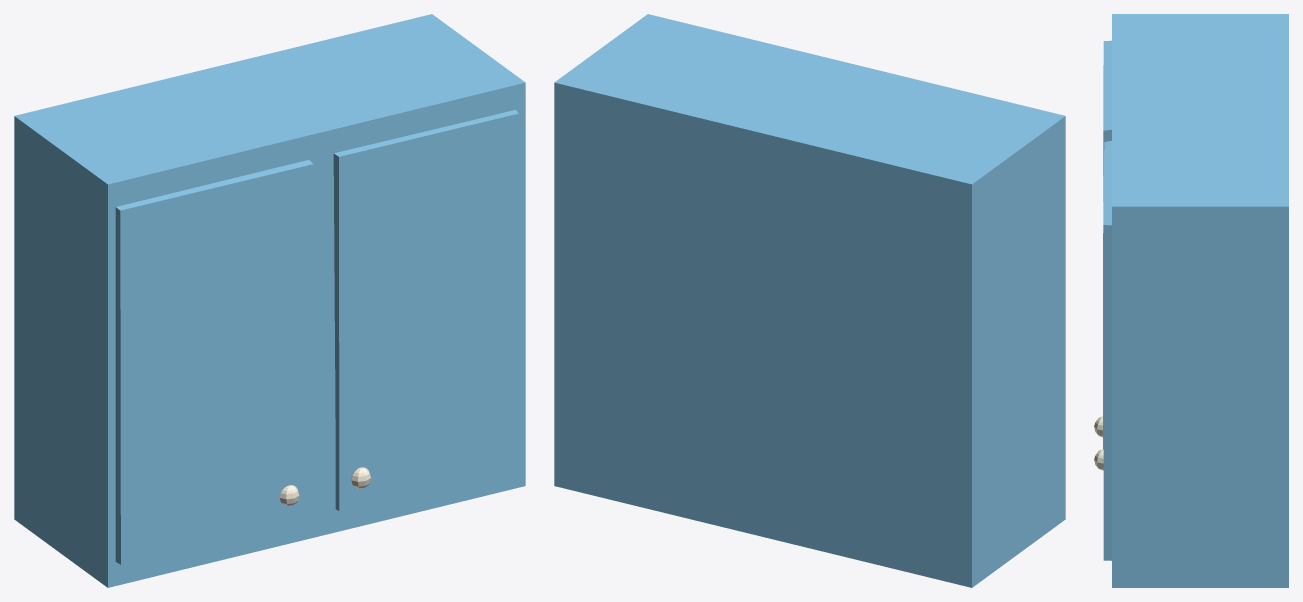
File: Kitchen_2_Cabinet_5.fbx
3 renders of one model, left to right at view 1: azimuth 30°, elevation 25°; view 2: azimuth 150°, elevation 25°; view 3: azimuth 270°, elevation 25°, orthographic. The views are drawn at different scales.
Parts seen in each view (by area): view 1: Kitchen_2_Cabinet_5; view 2: Kitchen_2_Cabinet_5; view 3: Kitchen_2_Cabinet_5.
Boxes of the visible parts, left/top/right/bottom form: Kitchen_2_Cabinet_5: left=14, top=14, right=525, bottom=587; Kitchen_2_Cabinet_5: left=554, top=14, right=1065, bottom=587; Kitchen_2_Cabinet_5: left=1094, top=14, right=1288, bottom=587.
Size of the model in its own units: 121 by 51.71 by 112.
